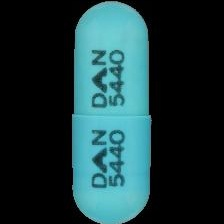60687-118: (0, 0, 224, 224)
